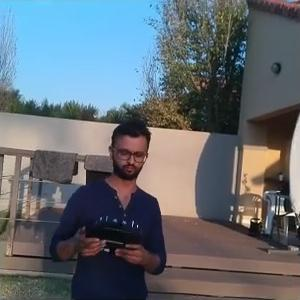follow: (43, 112, 169, 298)
